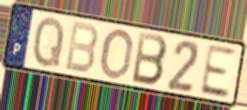2: (166, 39, 202, 96)
B: (130, 30, 169, 88), (63, 19, 99, 75)
E: (198, 42, 237, 100)
O: (98, 27, 135, 81)
Q: (31, 15, 66, 70)
